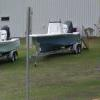Boat: (32, 20, 86, 55)
